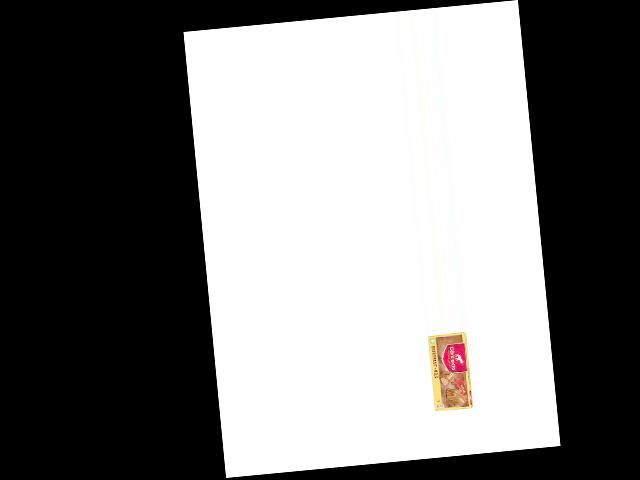chocolate: (421, 331, 475, 413)
